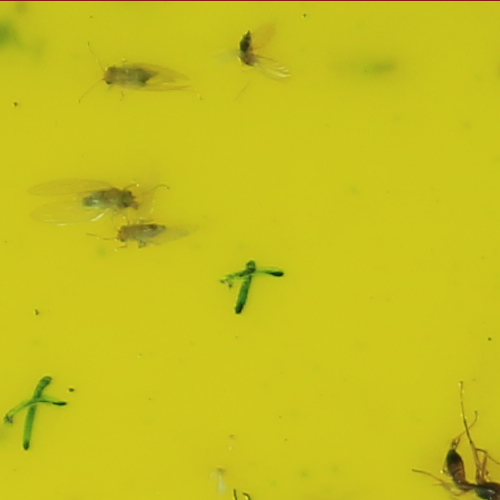Glycaspis: (115, 222, 171, 251), (100, 62, 162, 88), (82, 188, 142, 212)
psylla: (237, 31, 259, 66)
